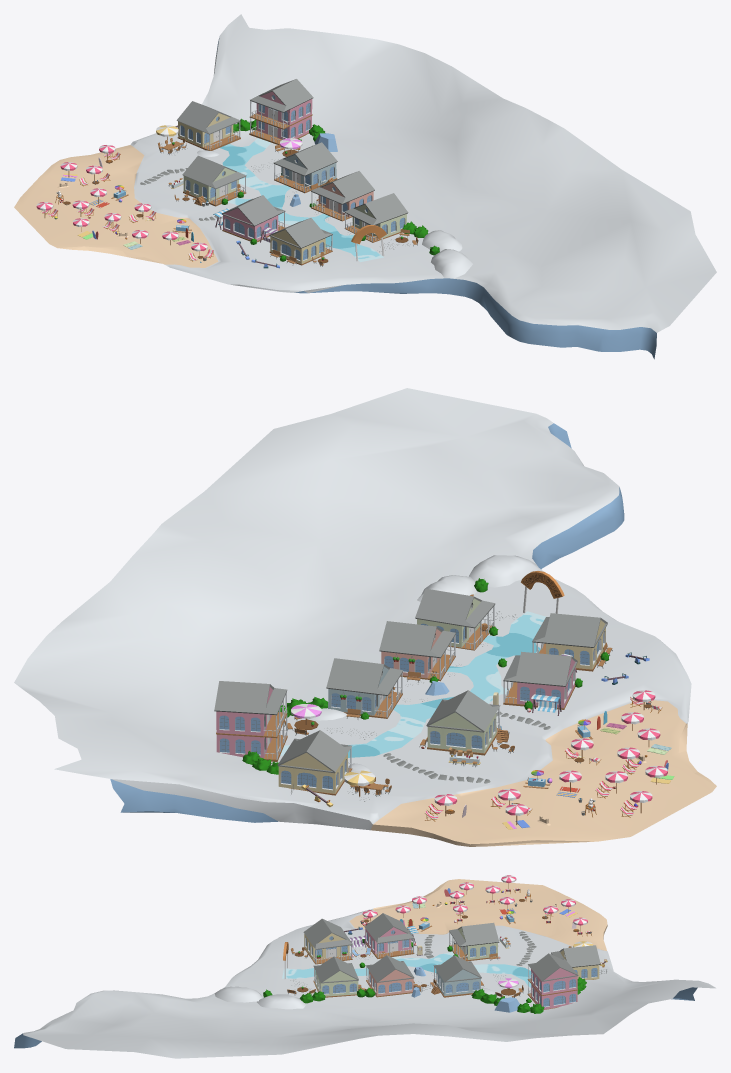
Rendered from Individual_BowlCutBeach_02.fbx.
3 renders of one model, top to bottom at view 1: azimuth 30°, elevation 25°; view 2: azimuth 150°, elevation 25°; view 3: azimuth 270°, elevation 25°, orthographic. The views are drawn at different scales.
Parts seen in each view (by area): view 1: pasted__pasted__Berg, pasted__Building_Mansion2Story, pasted__Building_Mansion1Story8, pasted__Building_Mansion1Story10, pasted__Building_Mansion1Story9, pasted__Building_Mansion1Story5, pasted__Building_Mansion1Story11, pasted__Building_Mansion1Story7, pasted__Building_Mansion1Story12, pasted__SnowPatch3, pasted__SnowPatch2; view 2: pasted__pasted__Berg, pasted__Building_Mansion2Story, pasted__Building_Mansion1Story10, pasted__Building_Mansion1Story9, pasted__Building_Mansion1Story8, pasted__Building_Mansion1Story11, pasted__Building_Mansion1Story7, pasted__Building_Mansion1Story12, pasted__Building_Mansion1Story5, pasted__SnowPatch3, pasted__SnowPatch2; view 3: pasted__pasted__Berg, pasted__Building_Mansion2Story, pasted__Building_Mansion1Story7, pasted__Building_Mansion1Story5, pasted__Building_Mansion1Story9, pasted__Building_Mansion1Story11, pasted__Building_Mansion1Story10, pasted__Building_Mansion1Story12, pasted__Building_Mansion1Story8, pasted__SnowPatch3, pasted__SnowPatch2.
Boxes of the visible parts, x1,y1,x2,y2 form: pasted__pasted__Berg: (14, 14, 716, 359); pasted__Building_Mansion2Story: (249, 79, 313, 144); pasted__Building_Mansion1Story8: (176, 101, 240, 150); pasted__Building_Mansion1Story10: (273, 142, 337, 193); pasted__Building_Mansion1Story9: (182, 155, 246, 206); pasted__Building_Mansion1Story5: (269, 218, 332, 265); pasted__Building_Mansion1Story11: (311, 171, 374, 221); pasted__Building_Mansion1Story7: (221, 195, 285, 242); pasted__Building_Mansion1Story12: (344, 193, 408, 242); pasted__SnowPatch3: (431, 249, 472, 278); pasted__SnowPatch2: (422, 230, 462, 251); pasted__pasted__Berg: (14, 388, 716, 846); pasted__Building_Mansion2Story: (214, 681, 287, 761); pasted__Building_Mansion1Story10: (326, 658, 403, 718); pasted__Building_Mansion1Story9: (426, 690, 500, 755); pasted__Building_Mansion1Story8: (277, 730, 352, 795); pasted__Building_Mansion1Story11: (379, 621, 455, 681); pasted__Building_Mansion1Story7: (503, 651, 577, 709); pasted__Building_Mansion1Story12: (415, 588, 495, 650); pasted__Building_Mansion1Story5: (532, 613, 607, 671); pasted__SnowPatch3: (469, 555, 539, 587); pasted__SnowPatch2: (417, 575, 476, 601); pasted__pasted__Berg: (14, 879, 715, 1058); pasted__Building_Mansion2Story: (527, 953, 578, 1009); pasted__Building_Mansion1Story7: (364, 913, 414, 958); pasted__Building_Mansion1Story5: (303, 918, 352, 964); pasted__Building_Mansion1Story9: (449, 922, 499, 961); pasted__Building_Mansion1Story11: (366, 955, 414, 997); pasted__Building_Mansion1Story10: (433, 955, 481, 997); pasted__Building_Mansion1Story12: (313, 956, 358, 997); pasted__Building_Mansion1Story8: (551, 945, 600, 979); pasted__SnowPatch3: (214, 986, 262, 1002); pasted__SnowPatch2: (257, 994, 305, 1009).
Bounding box in the file's own units: 8653 × 1168 × 12345.
